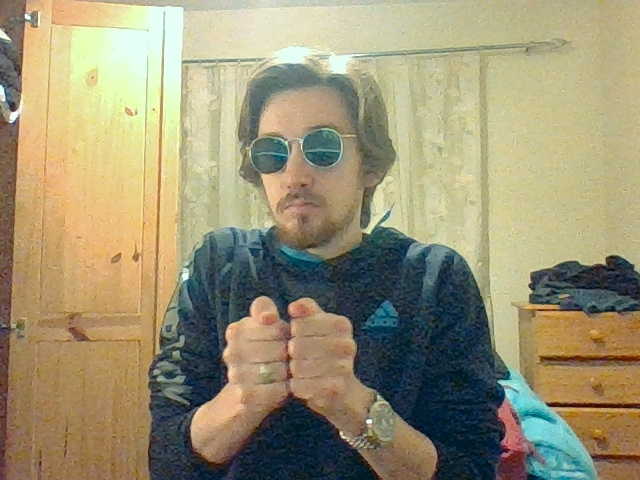brother: (222, 296, 357, 403)
